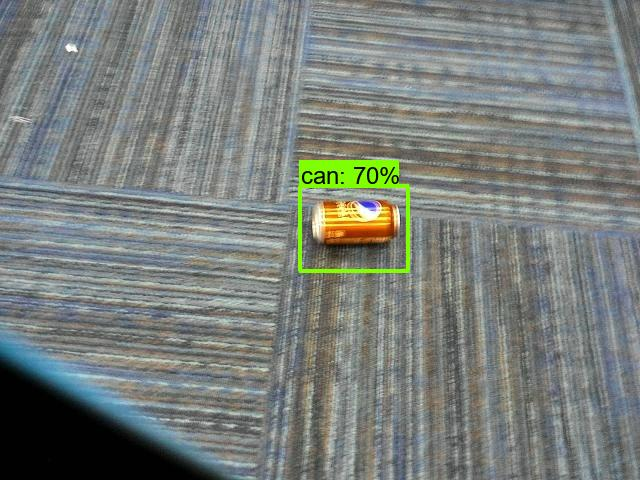can: (301, 190, 409, 254)
